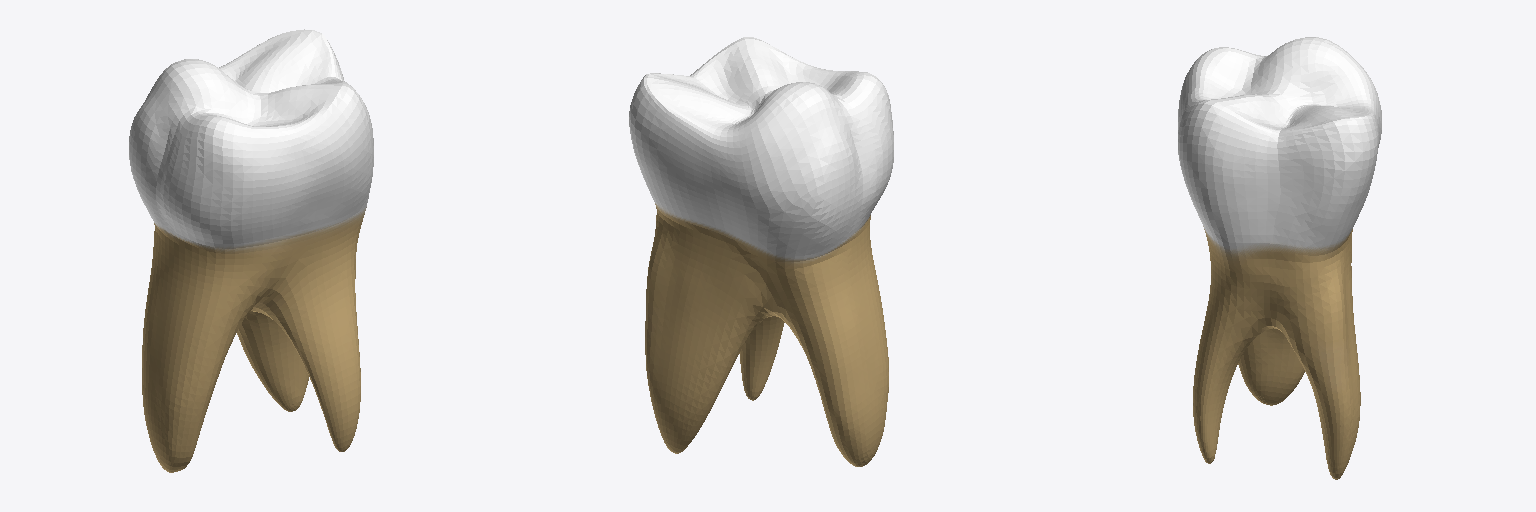
3 views of the same model, side by side, from view 1: azimuth 30°, elevation 25°; view 2: azimuth 150°, elevation 25°; view 3: azimuth 270°, elevation 25° (orthographic).
Parts seen in each view (by area): view 1: outer; view 2: outer; view 3: outer.
Boxes of the visible parts, box(x1,y1,x2,y2) form: outer: box(129, 29, 373, 472); outer: box(629, 37, 893, 466); outer: box(1178, 37, 1381, 479).
Size of the model in its own units: 4.56 by 7.87 by 3.81.
2 materials, 1 textured.